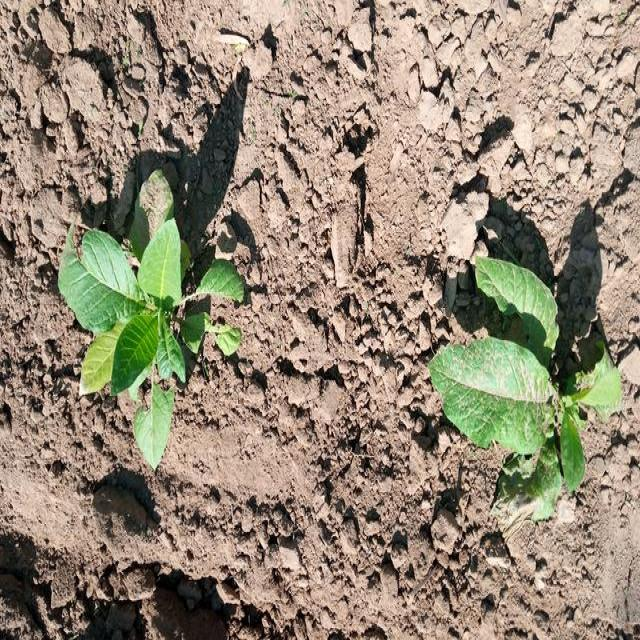crop: (62, 182, 231, 464), (438, 252, 614, 506)
